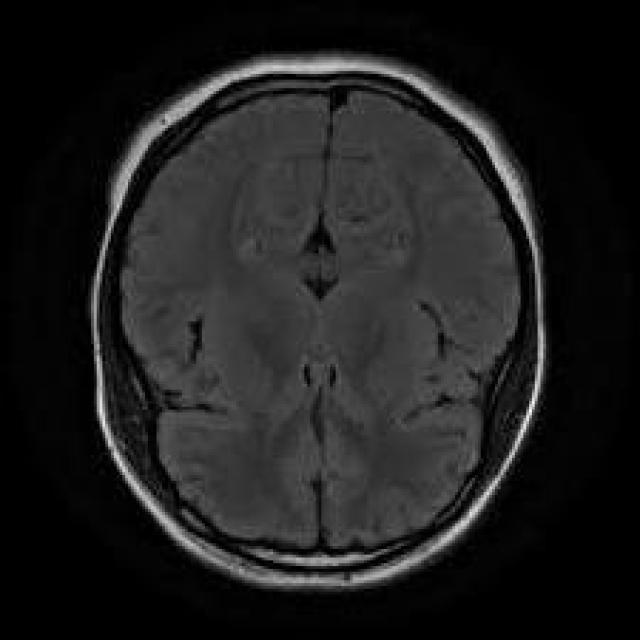No_Tumor: (90, 53, 547, 587)
